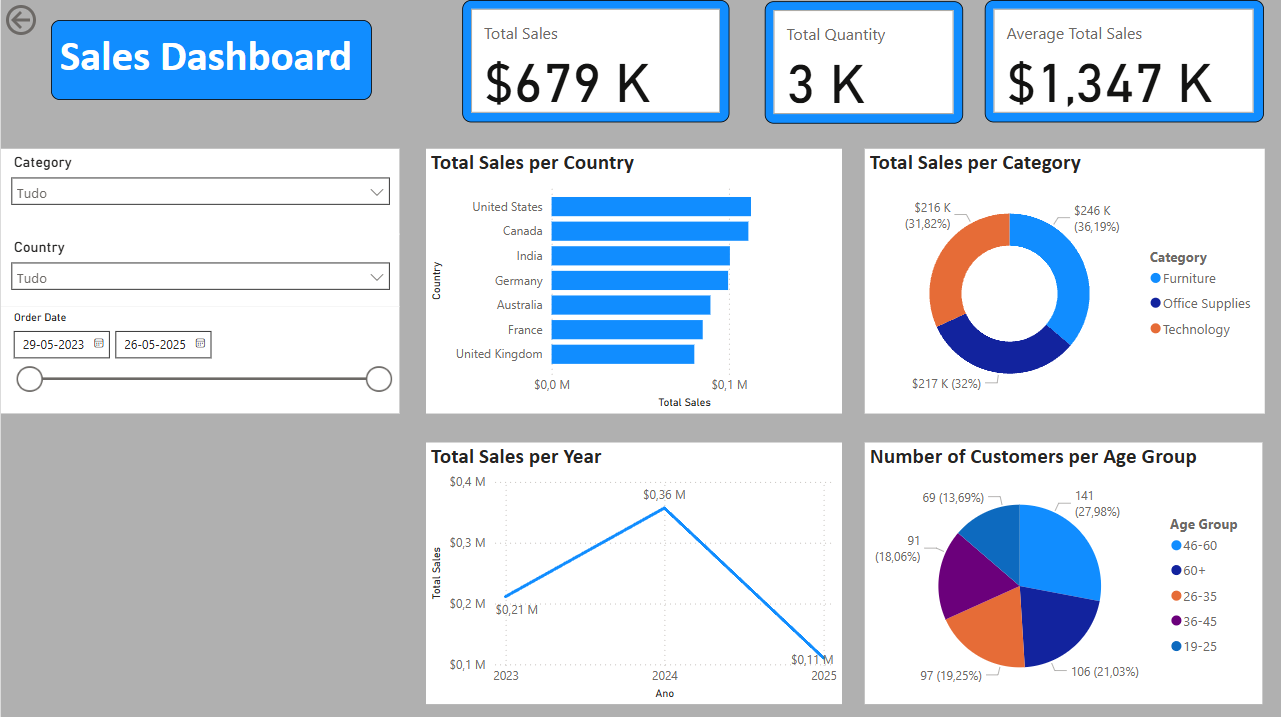

Layout of this report page (visuals, bound fields, positions):
{"tool":"powerbi","page":{"name":"Sales Data","canvas":[1280,720],"ordinal":0},"visuals":[{"type":"cardVisual","fields":{"Data":["cleaned_sales_data.Total Sales"]},"box":[461.8,0,267.1,122.4],"z":0},{"type":"cardVisual","fields":{"Data":["cleaned_sales_data.Total Quantity"]},"box":[763.2,1.3,198.7,122.4],"z":1000},{"type":"cardVisual","fields":{"Data":["cleaned_sales_data.Average Sales"]},"box":[984.2,0,278.9,122.4],"z":2000},{"type":"lineChart","title":"Total Sales per Year","fields":{"Category":["cleaned_sales_data.Order_Date.Variação.Hierarquia de Datas.Ano","cleaned_sales_data.Order_Date.Variação.Hierarquia de Datas.Trimestre","cleaned_sales_data.Order_Date.Variação.Hierarquia de Datas.Mês","cleaned_sales_data.Order_Date.Variação.Hierarquia de Datas.Dia"],"Y":["cleaned_sales_data.Total Sales"]},"box":[425,442.1,415.8,261.8],"z":3000},{"type":"clusteredBarChart","title":"Total Sales per Country","fields":{"Y":["cleaned_sales_data.Total Sales"],"Category":["cleaned_sales_data.Country Hierarquia.Country","cleaned_sales_data.Country Hierarquia.City"]},"box":[425,148.7,415.8,264.5],"z":4000},{"type":"donutChart","title":"Total Sales per Category","fields":{"Category":["cleaned_sales_data.Category"],"Y":["cleaned_sales_data.Total Sales"]},"box":[863.2,148.7,400,264.5],"z":5000},{"type":"slicer","fields":{"Values":["cleaned_sales_data.Order_Date"]},"box":[0,306.2,398.8,107.5],"z":6000},{"type":"slicer","fields":{"Values":["cleaned_sales_data.Country"]},"box":[0,233.8,398.8,72.5],"z":7000},{"type":"slicer","fields":{"Values":["cleaned_sales_data.Category"]},"box":[0,148.7,398.7,85.5],"z":8000},{"type":"textbox","box":[50,19.7,321.1,80.3],"z":9000},{"type":"actionButton","box":[0,0,100,40],"z":10000},{"type":"pieChart","title":"Number of Customers per Age Group","fields":{"Category":["cleaned_sales_data.age_group"],"Y":["CountNonNull(cleaned_sales_data.Customer_ID)"]},"box":[863.2,442.1,397.4,261.8],"z":11000}]}

Visuals, with their boxes in screenshot pixels (x1, y1, x2, y2), scaled from the page's 1280x720 canvas onto the 1281x717 screenshot:
cardVisual - cleaned_sales_data.Total Sales: 462,0,729,122
cardVisual - cleaned_sales_data.Total Quantity: 764,1,963,123
cardVisual - cleaned_sales_data.Average Sales: 985,0,1264,122
"Total Sales per Year" lineChart: 425,440,841,701
"Total Sales per Country" clusteredBarChart: 425,148,841,411
"Total Sales per Category" donutChart: 864,148,1264,411
slicer - cleaned_sales_data.Order_Date: 0,305,399,412
slicer - cleaned_sales_data.Country: 0,233,399,305
slicer - cleaned_sales_data.Category: 0,148,399,233
textbox: 50,20,371,100
actionButton: 0,0,100,40
"Number of Customers per Age Group" pieChart: 864,440,1262,701
